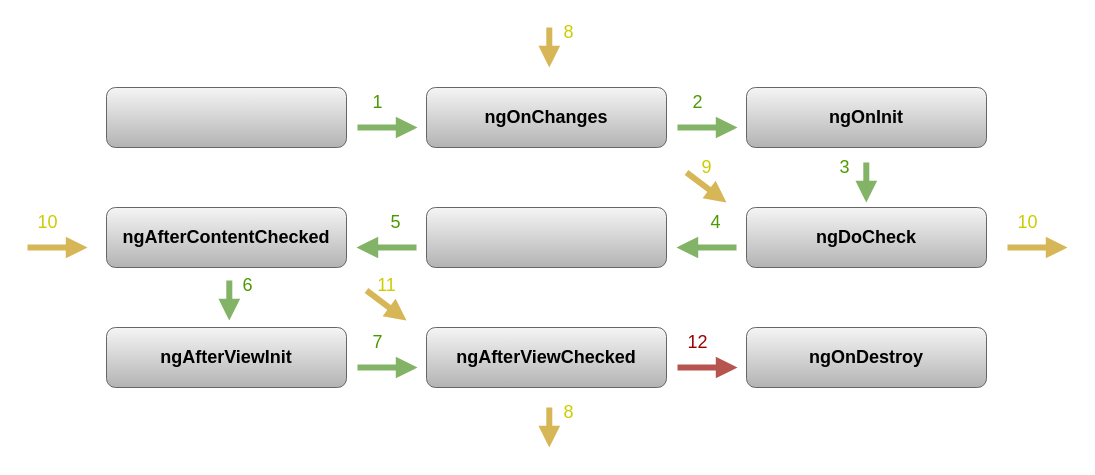
Some shapes in this 1095 by 475 pixel diagram are drawn without their labels. Each missing label, with the centre of its shape:
"constructor" belongs at (x=226, y=117).
"ngAfterContentInit" belongs at (x=546, y=237).
